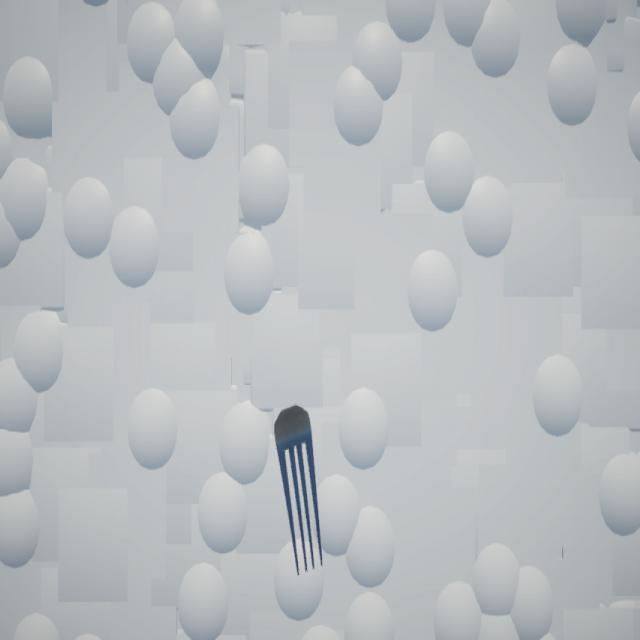top_folk: (275, 406, 324, 576)
